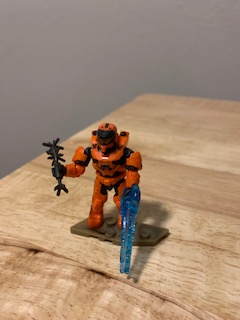spartan: (50, 121, 142, 232)
